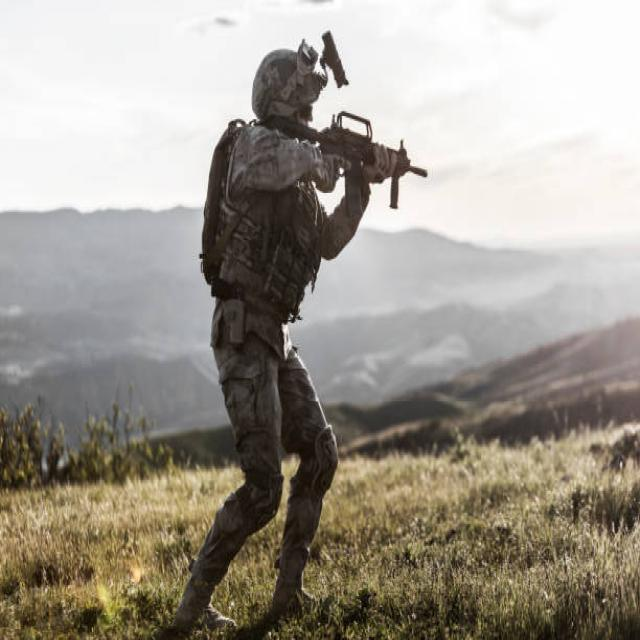soldier: (167, 26, 426, 640)
